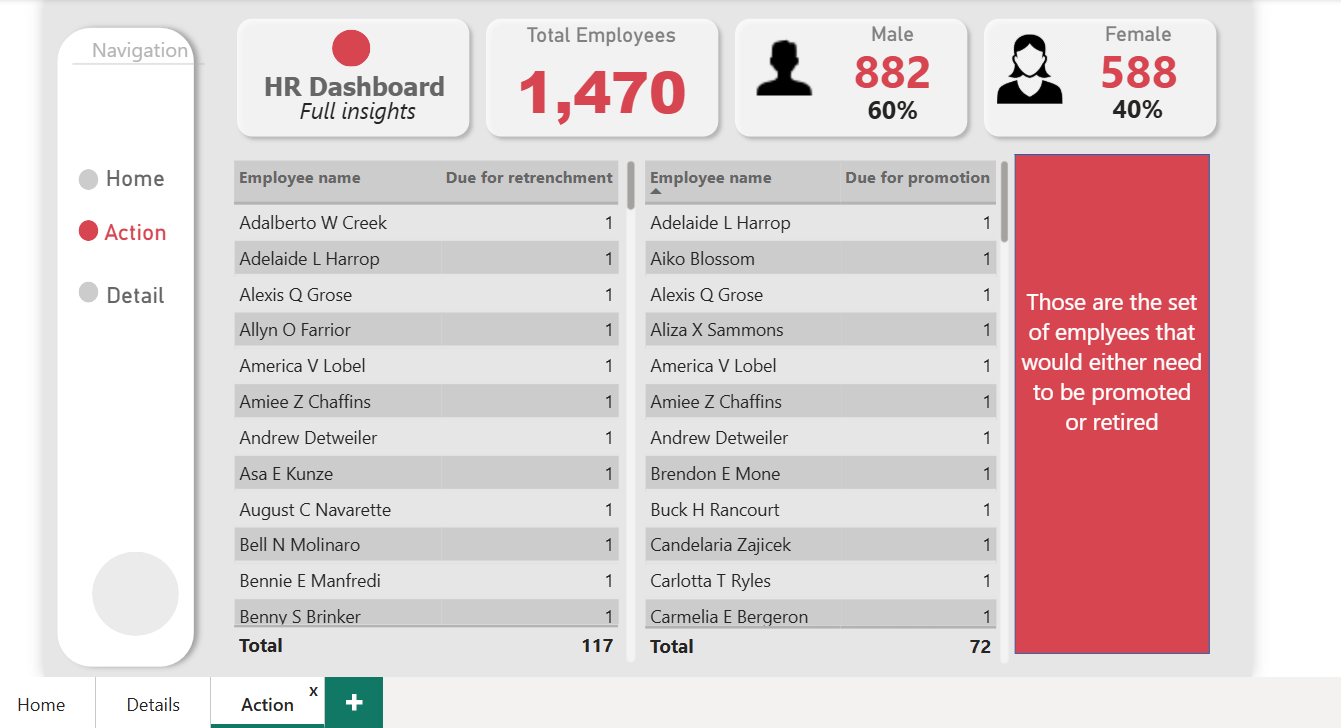

What the dashboard file says about the page in this screenshot:
{"tool":"powerbi","page":{"name":"Action","canvas":[1700,900],"ordinal":1},"visuals":[{"type":"shape","box":[176.1,8.1,368.4,196.3],"z":0},{"type":"shape","box":[0,18.2,163.9,882.5],"z":1000},{"type":"shape","box":[967.5,24.3,342.1,196.3],"z":2000},{"type":"shape","box":[572.8,24.3,368.4,196.3],"z":3000},{"type":"shape","box":[1327.8,16.2,336,210.5],"z":4000},{"type":"textbox","box":[210.5,87,313.7,70.8],"z":5000},{"type":"textbox","box":[263.1,153.8,149.8,50.6],"z":6000},{"type":"shape","box":[303.6,16.2,64.8,70.8],"z":7000},{"type":"card","title":"Total Employees","fields":{"Values":["All measure.Total Emp"]},"box":[591,46.6,336,157.9],"z":8000},{"type":"card","title":"Male","fields":{"Values":["All measure.Male"]},"box":[1135.5,32.4,174.1,127.5],"z":9000},{"type":"card","title":"Female","fields":{"Values":["All measure.Female"]},"box":[1485.6,32.4,170,127.5],"z":10000},{"type":"card","fields":{"Values":["All measure.%male"]},"box":[1184.1,149.8,105.2,60.7],"z":11000},{"type":"card","fields":{"Values":["All measure.%female"]},"box":[1552.4,157.9,83,68.8],"z":12000},{"type":"image","box":[1008,70.8,111.3,121.4],"z":13000},{"type":"image","box":[1344,46.6,141.7,147.8],"z":14000},{"type":"tableEx","fields":{"Values":["HR Analytics Data.Emplyee name","All measure.Due for promotion"]},"box":[176.1,226.7,368.4,674],"z":15000},{"type":"tableEx","fields":{"Values":["HR Analytics Data.Emplyee name","All measure.will be retreachment"]},"box":[572.8,226.7,368.4,674],"z":16000}]}

Visuals, with their boxes on the page's 1700x900 design canvas (x1, y1, x2, y2). These are canvas units, not pixel positions in the 1341x728 screenshot, which may show the page scaled, cropped or inside an application window:
shape: detection(176, 8, 544, 204)
shape: detection(0, 18, 164, 901)
shape: detection(968, 24, 1310, 221)
shape: detection(573, 24, 941, 221)
shape: detection(1328, 16, 1664, 227)
textbox: detection(210, 87, 524, 158)
textbox: detection(263, 154, 413, 204)
shape: detection(304, 16, 368, 87)
"Total Employees" card: detection(591, 47, 927, 204)
"Male" card: detection(1136, 32, 1310, 160)
"Female" card: detection(1486, 32, 1656, 160)
card - All measure.%male: detection(1184, 150, 1289, 210)
card - All measure.%female: detection(1552, 158, 1635, 227)
image: detection(1008, 71, 1119, 192)
image: detection(1344, 47, 1486, 194)
tableEx - HR Analytics Data.Emplyee name x All measure.Due for promotion: detection(176, 227, 544, 901)
tableEx - HR Analytics Data.Emplyee name x All measure.will be retreachment: detection(573, 227, 941, 901)
